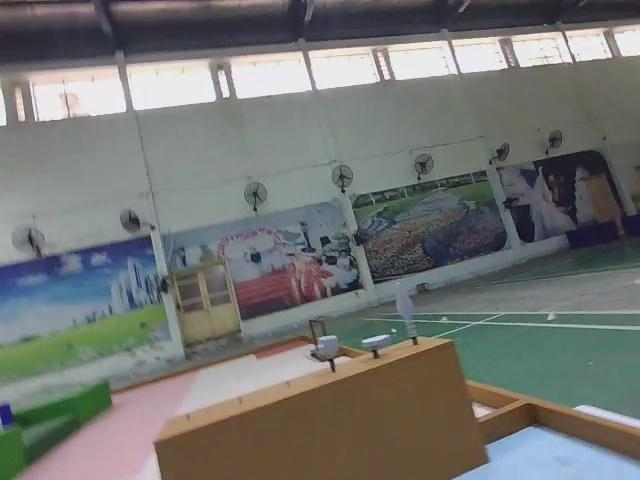Fist: (318, 333, 342, 378)
Hand: (360, 335, 390, 362)
Sph: (394, 279, 423, 347)
